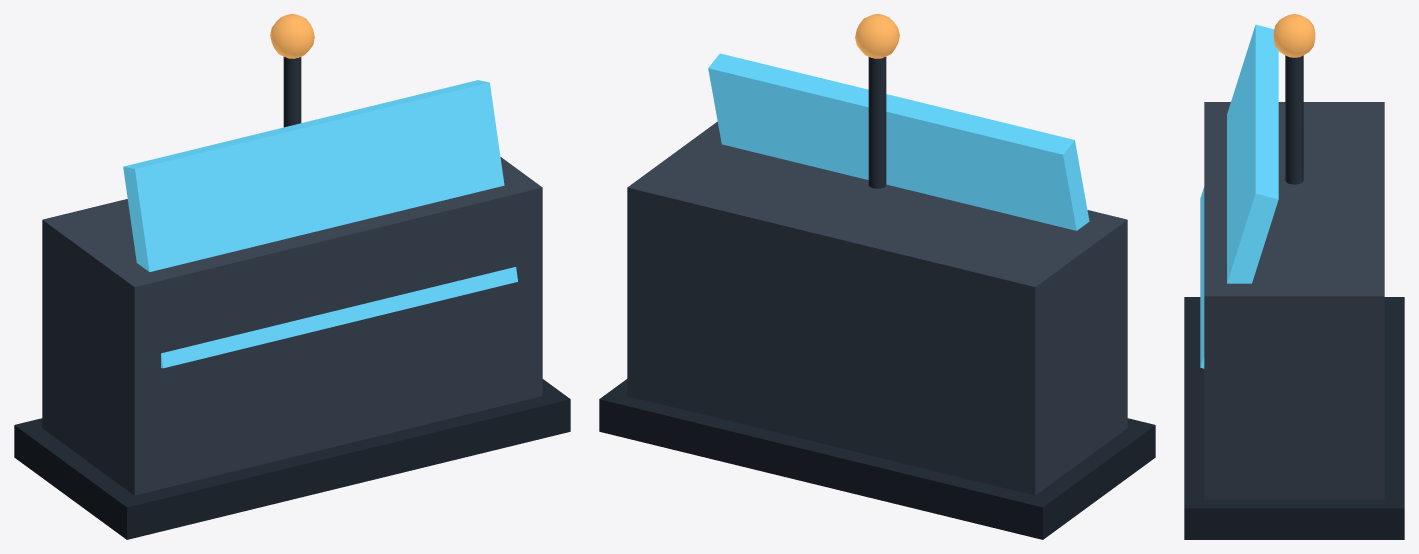
File: device-console.glb
The picture shows the model from 3 angles, left to right: view 1: azimuth 30°, elevation 25°; view 2: azimuth 150°, elevation 25°; view 3: azimuth 270°, elevation 25°; orthographic projection. The views are drawn at different scales.
Visible parts, largest first — view 1: console, screen, antenna; view 2: console, screen, antenna; view 3: console, screen, antenna.
Part boxes in pixels (<box>): console: <box>14,157,570,539</box>; screen: <box>123,80,517,368</box>; antenna: <box>270,14,314,127</box>; console: <box>599,121,1155,539</box>; screen: <box>708,53,1089,230</box>; antenna: <box>855,14,899,188</box>; console: <box>1184,102,1404,539</box>; screen: <box>1200,24,1278,368</box>; antenna: <box>1273,14,1315,184</box>.
Bounding box in the file's own units: 5 × 4.62 × 2.2.
